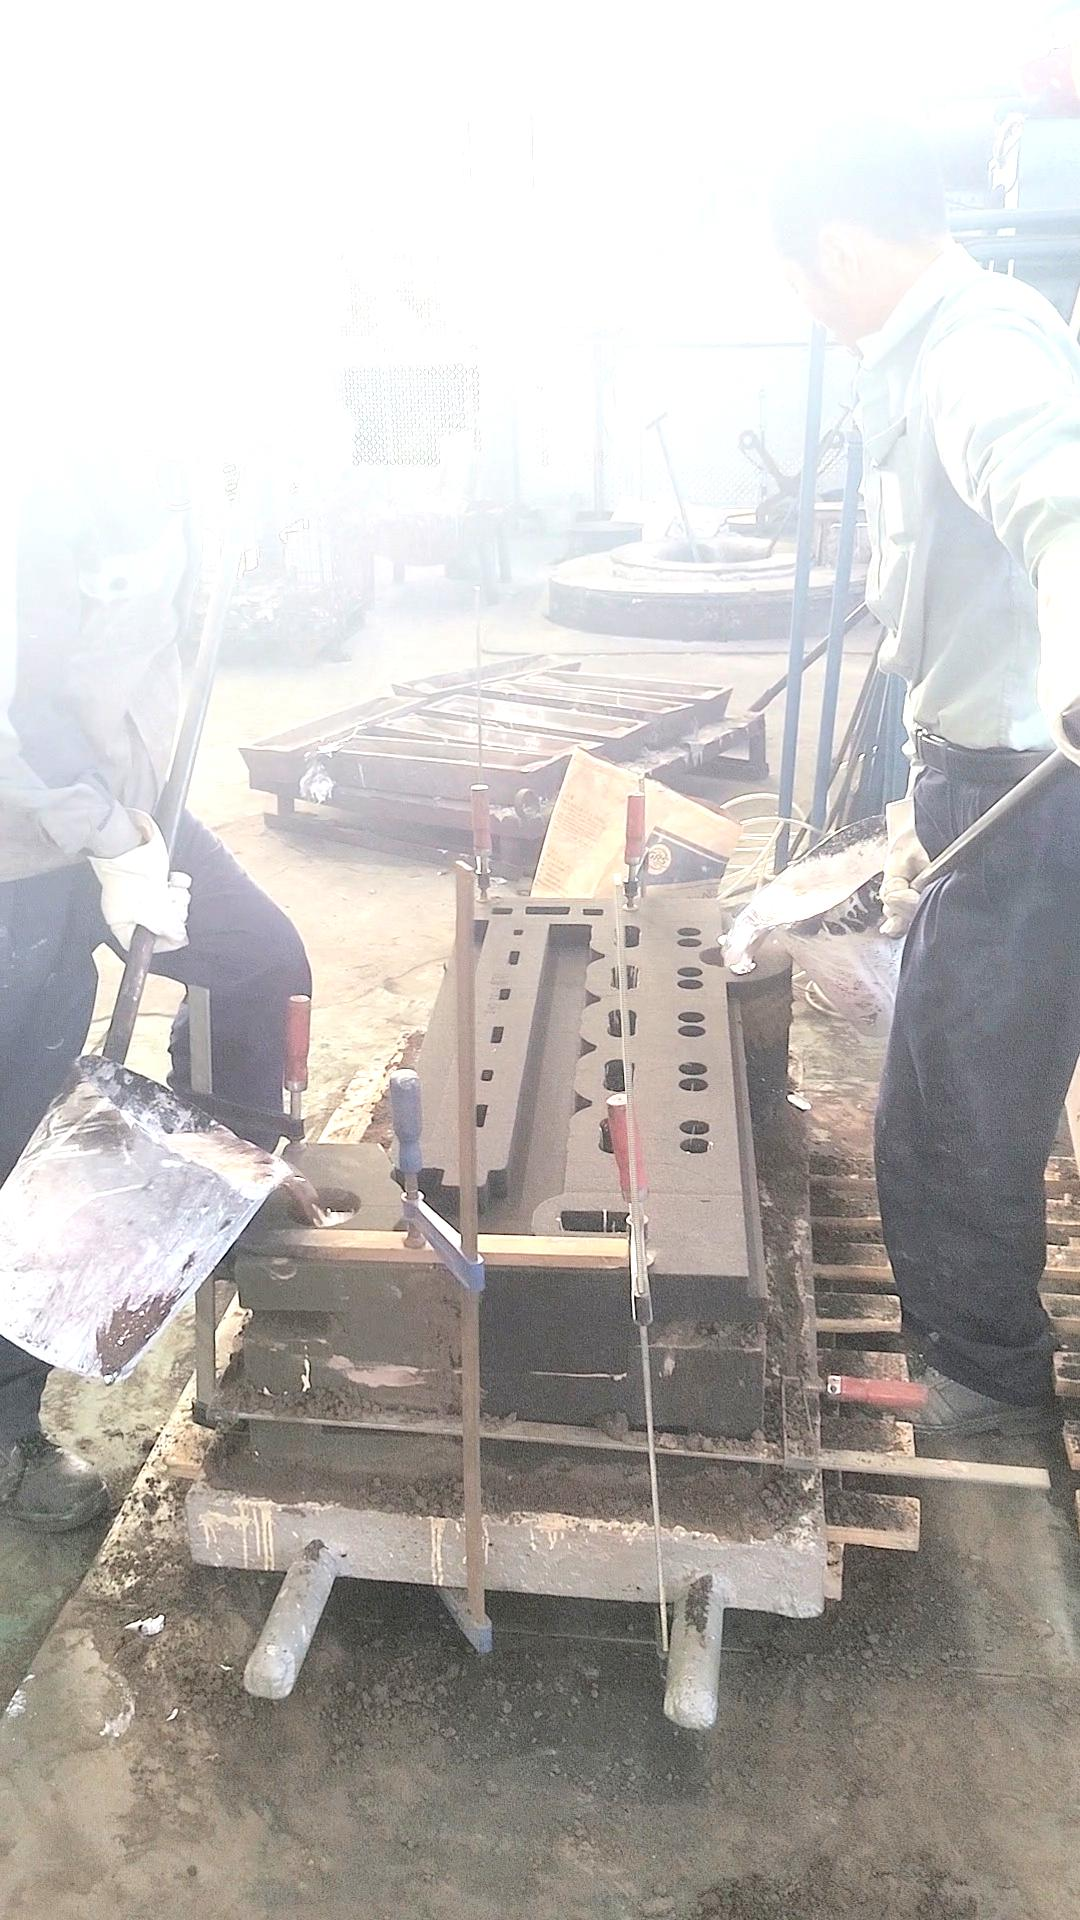pouring hole: (284, 1187, 361, 1226), (698, 945, 756, 968)
